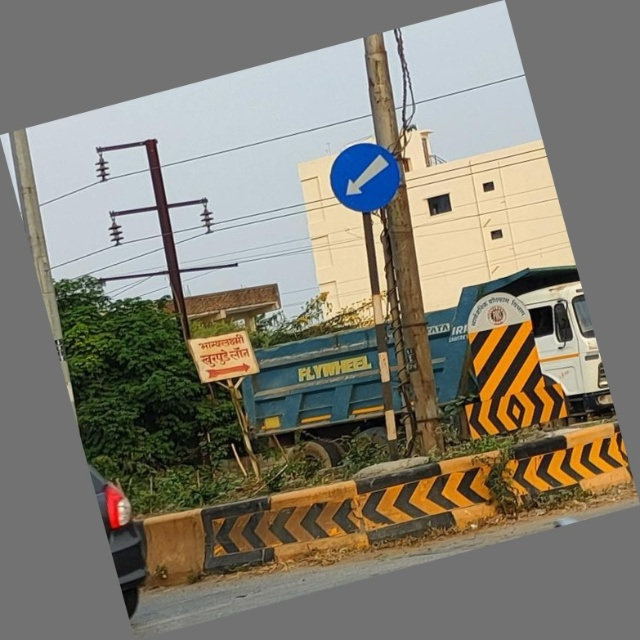R.301e: (316, 128, 417, 225)
